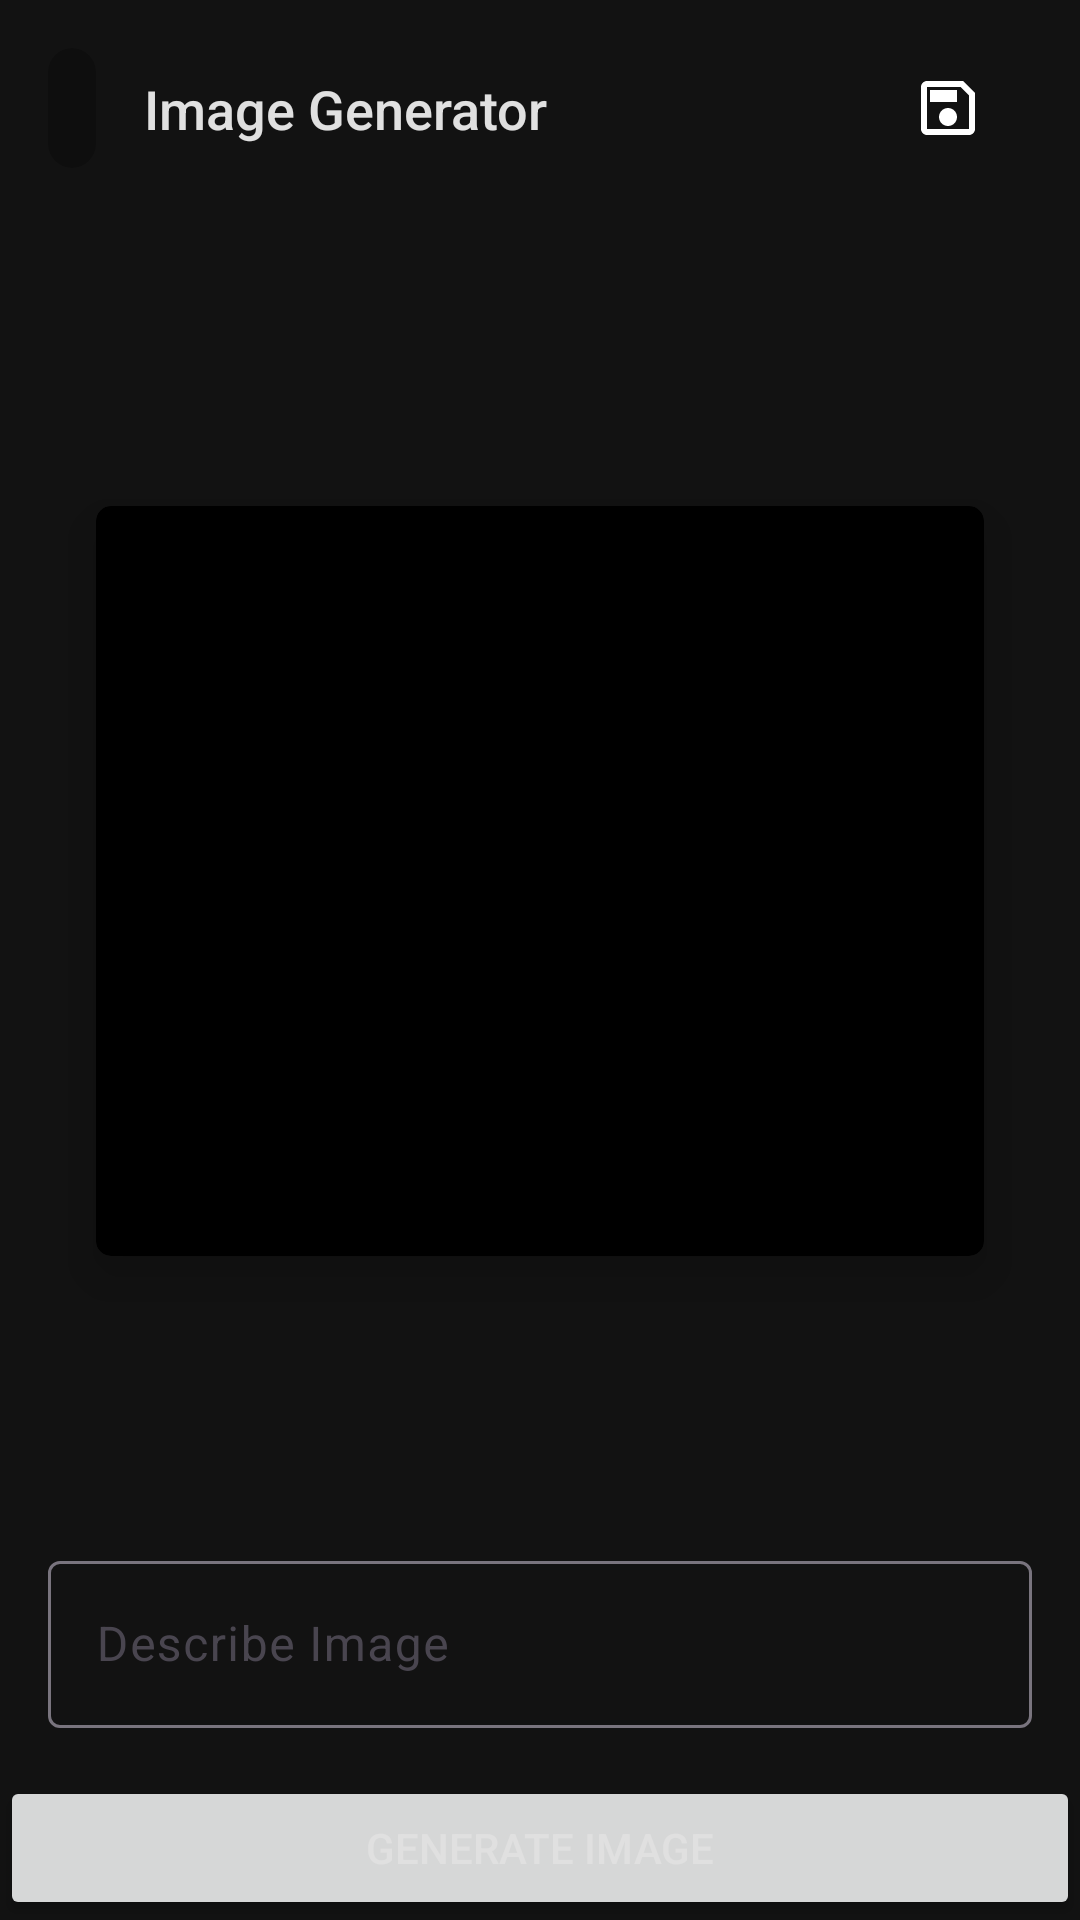

Point at icon controls on the screen. Image size 1080x1920, points as (x=x, y=y).
save: (x=948, y=108)
